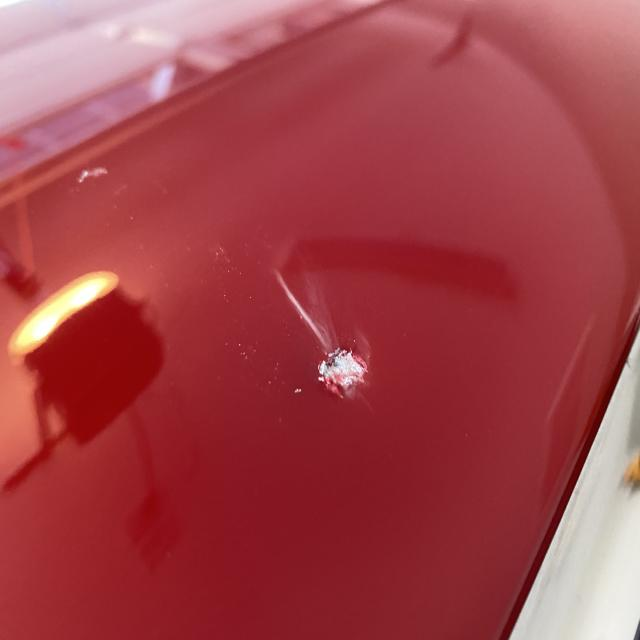scratch: (211, 241, 377, 408), (78, 166, 108, 183)
